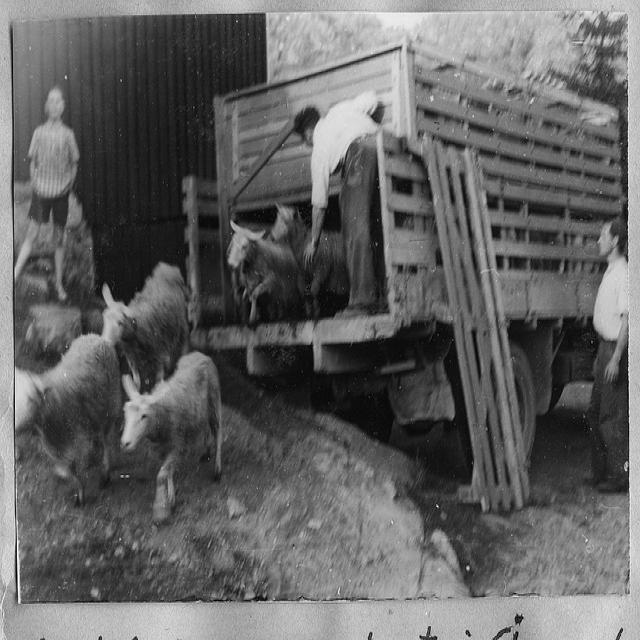Vehicle: (185, 40, 625, 430)
